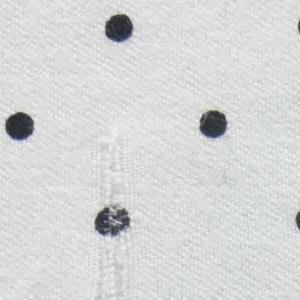Damage: (94, 126, 131, 300)
Wrinkle: (214, 1, 290, 68)
